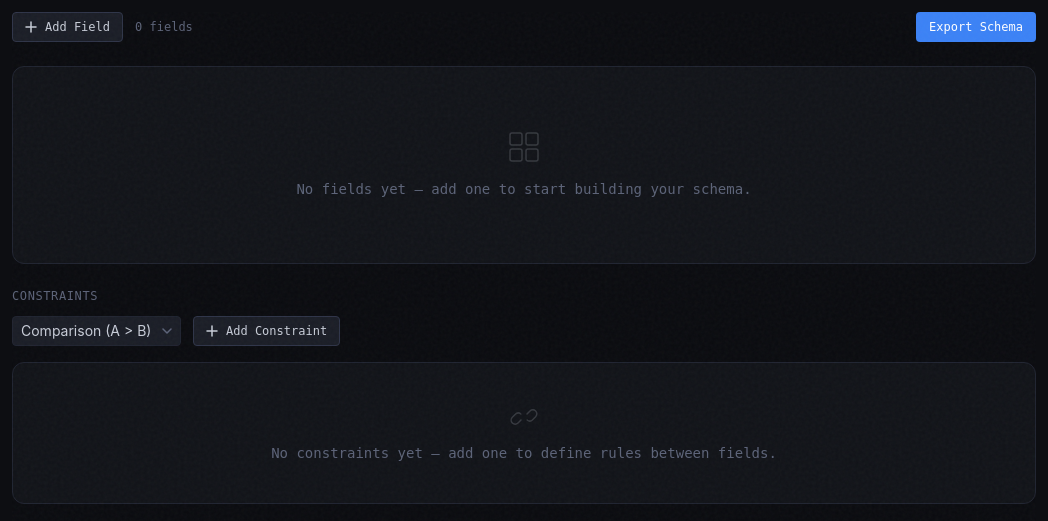
SchemaBuilder › shows format input when type is date
Click the button "Add Field" at (68, 27), box [12,12,123,42]
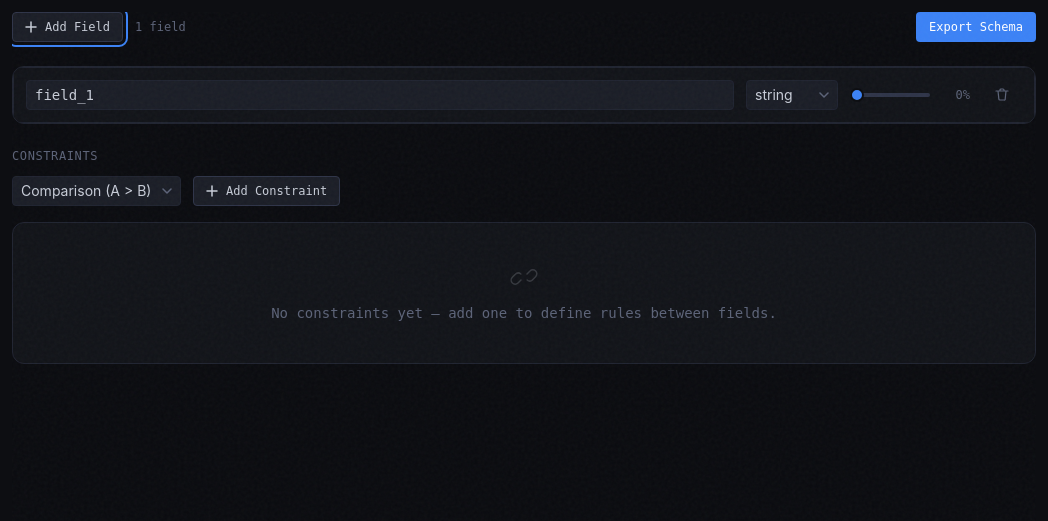
Select "date" in the dropdown named "field type" at (792, 95), box [746,80,838,110]
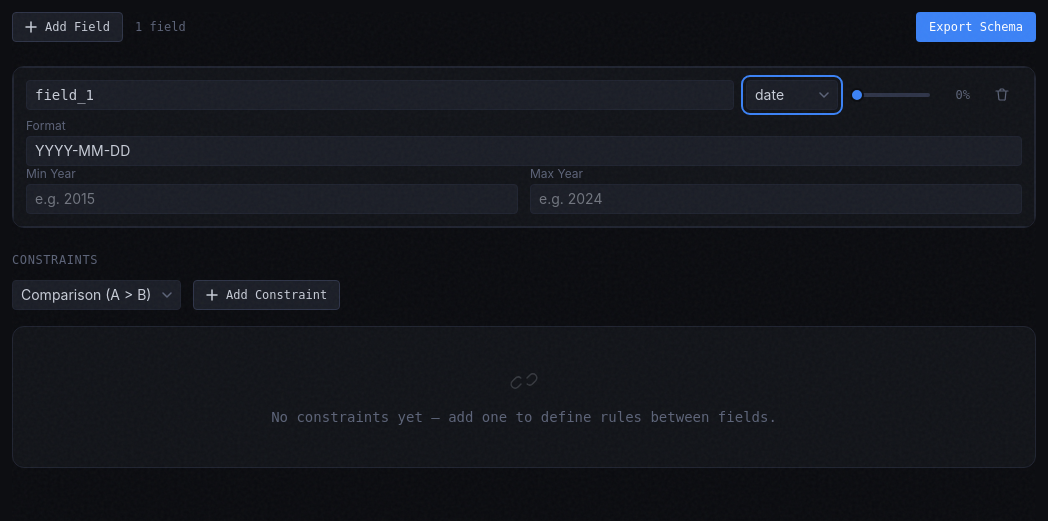
Check: the field labelled "Format" is shown, box [26,136,1022,166]
